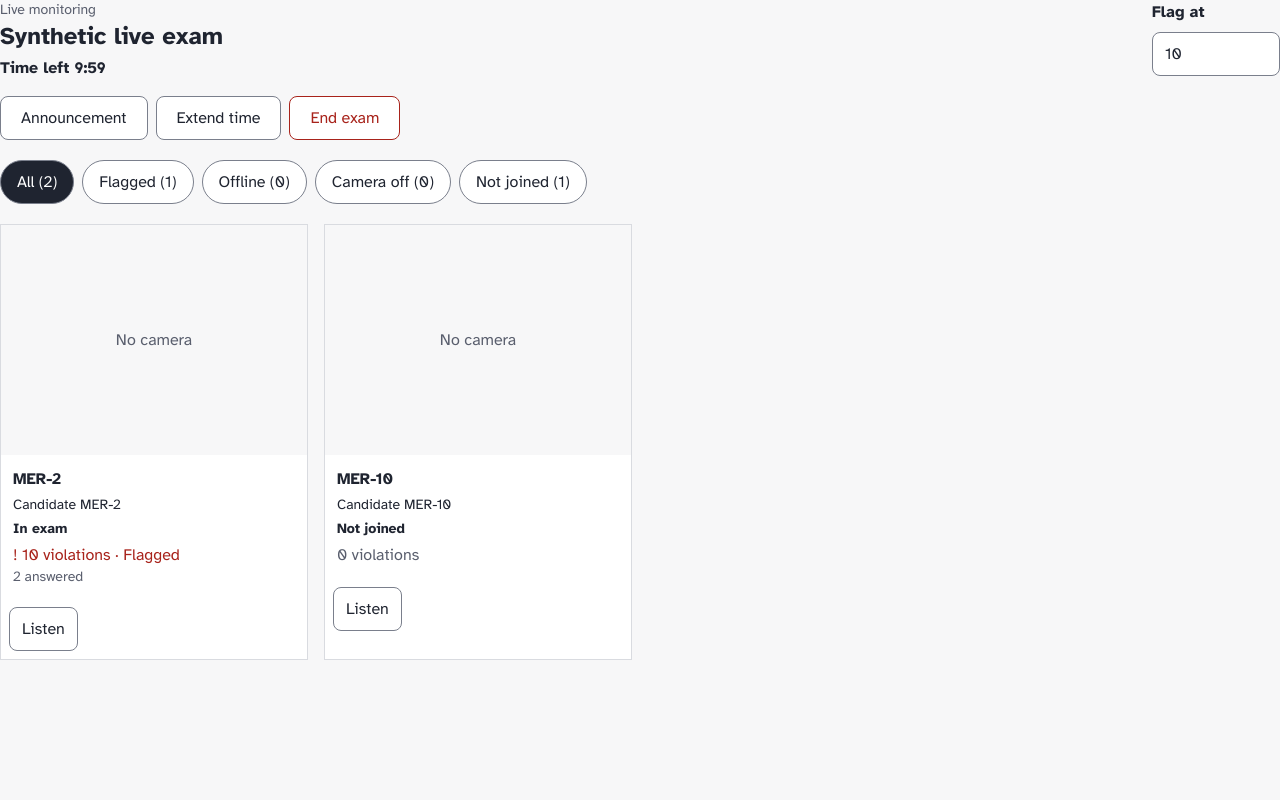
Test case: LiveGrid › opens the 440px candidate panel and announces a threshold crossing
This screenshot has width=1280, height=800.
Click the button "MER-2 Candidate MER-2": (154, 412) top-left (1, 225), bottom-right (307, 598)
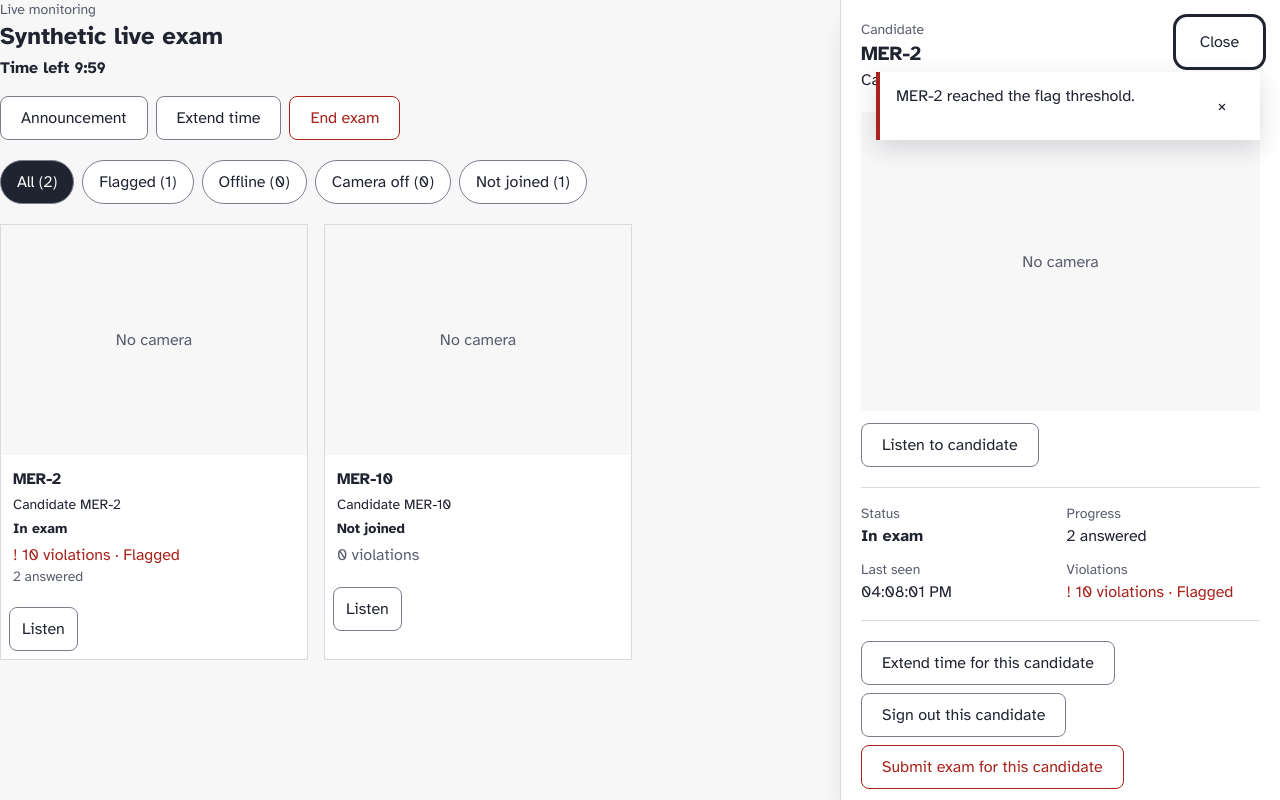
Result: the element "Candidate MER-2" is shown at top-left (840, 0), bottom-right (1279, 799)
Result: the message shows "reached the flag threshold" at top-left (896, 86), bottom-right (1134, 106)
